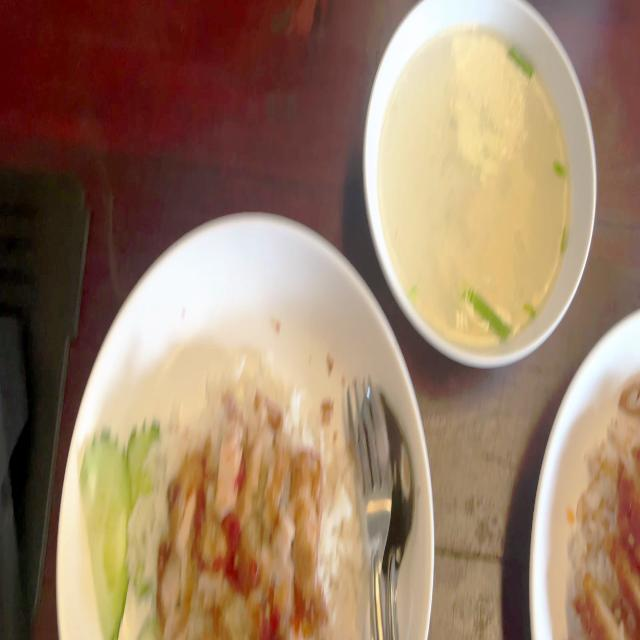chicken_rice: (90, 368, 371, 640), (564, 366, 640, 640)
cucumber: (79, 412, 162, 640)
fried_chicken: (165, 416, 323, 638), (576, 445, 640, 639)
